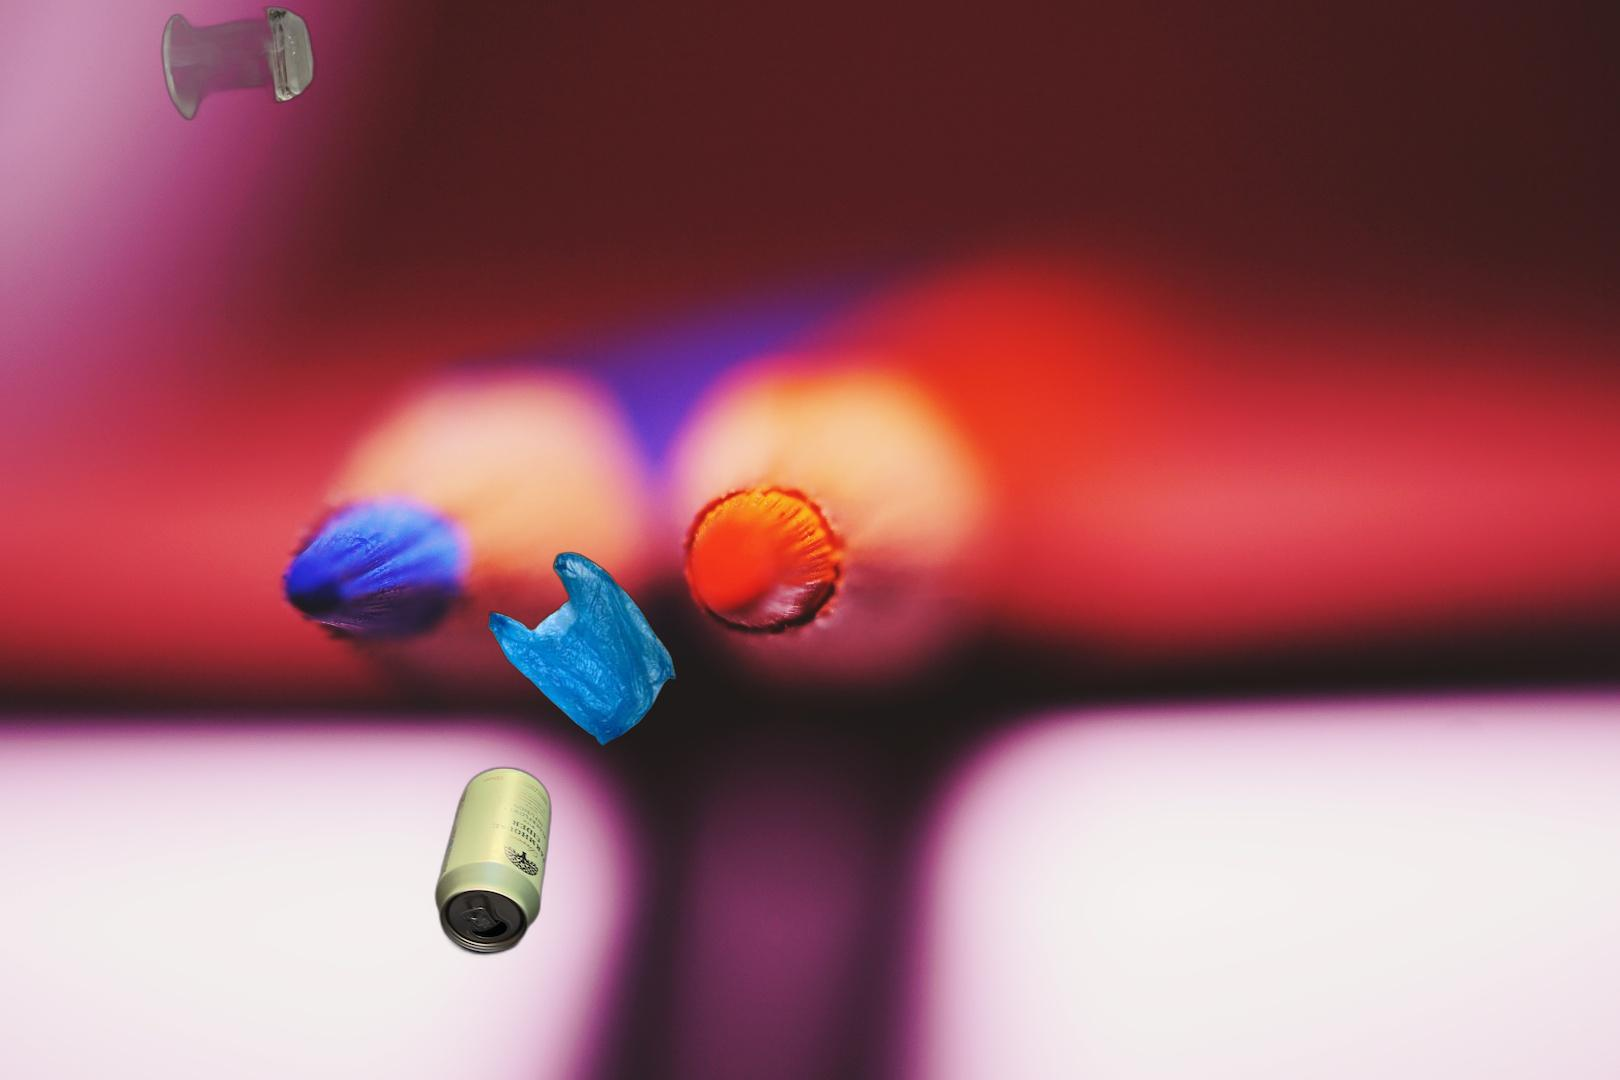glass: (157, 2, 322, 122)
metal-cans: (177, 668, 554, 959)
plastic-bag: (485, 551, 680, 749)
